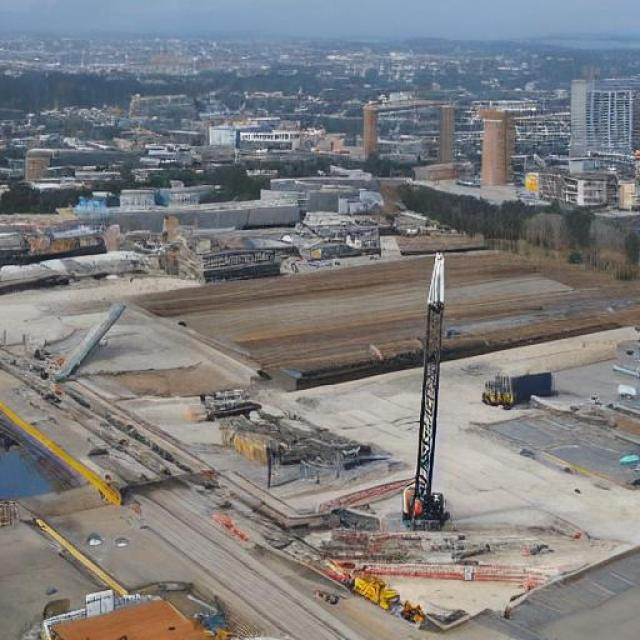crane: (206, 0, 637, 506), (55, 477, 243, 526)
